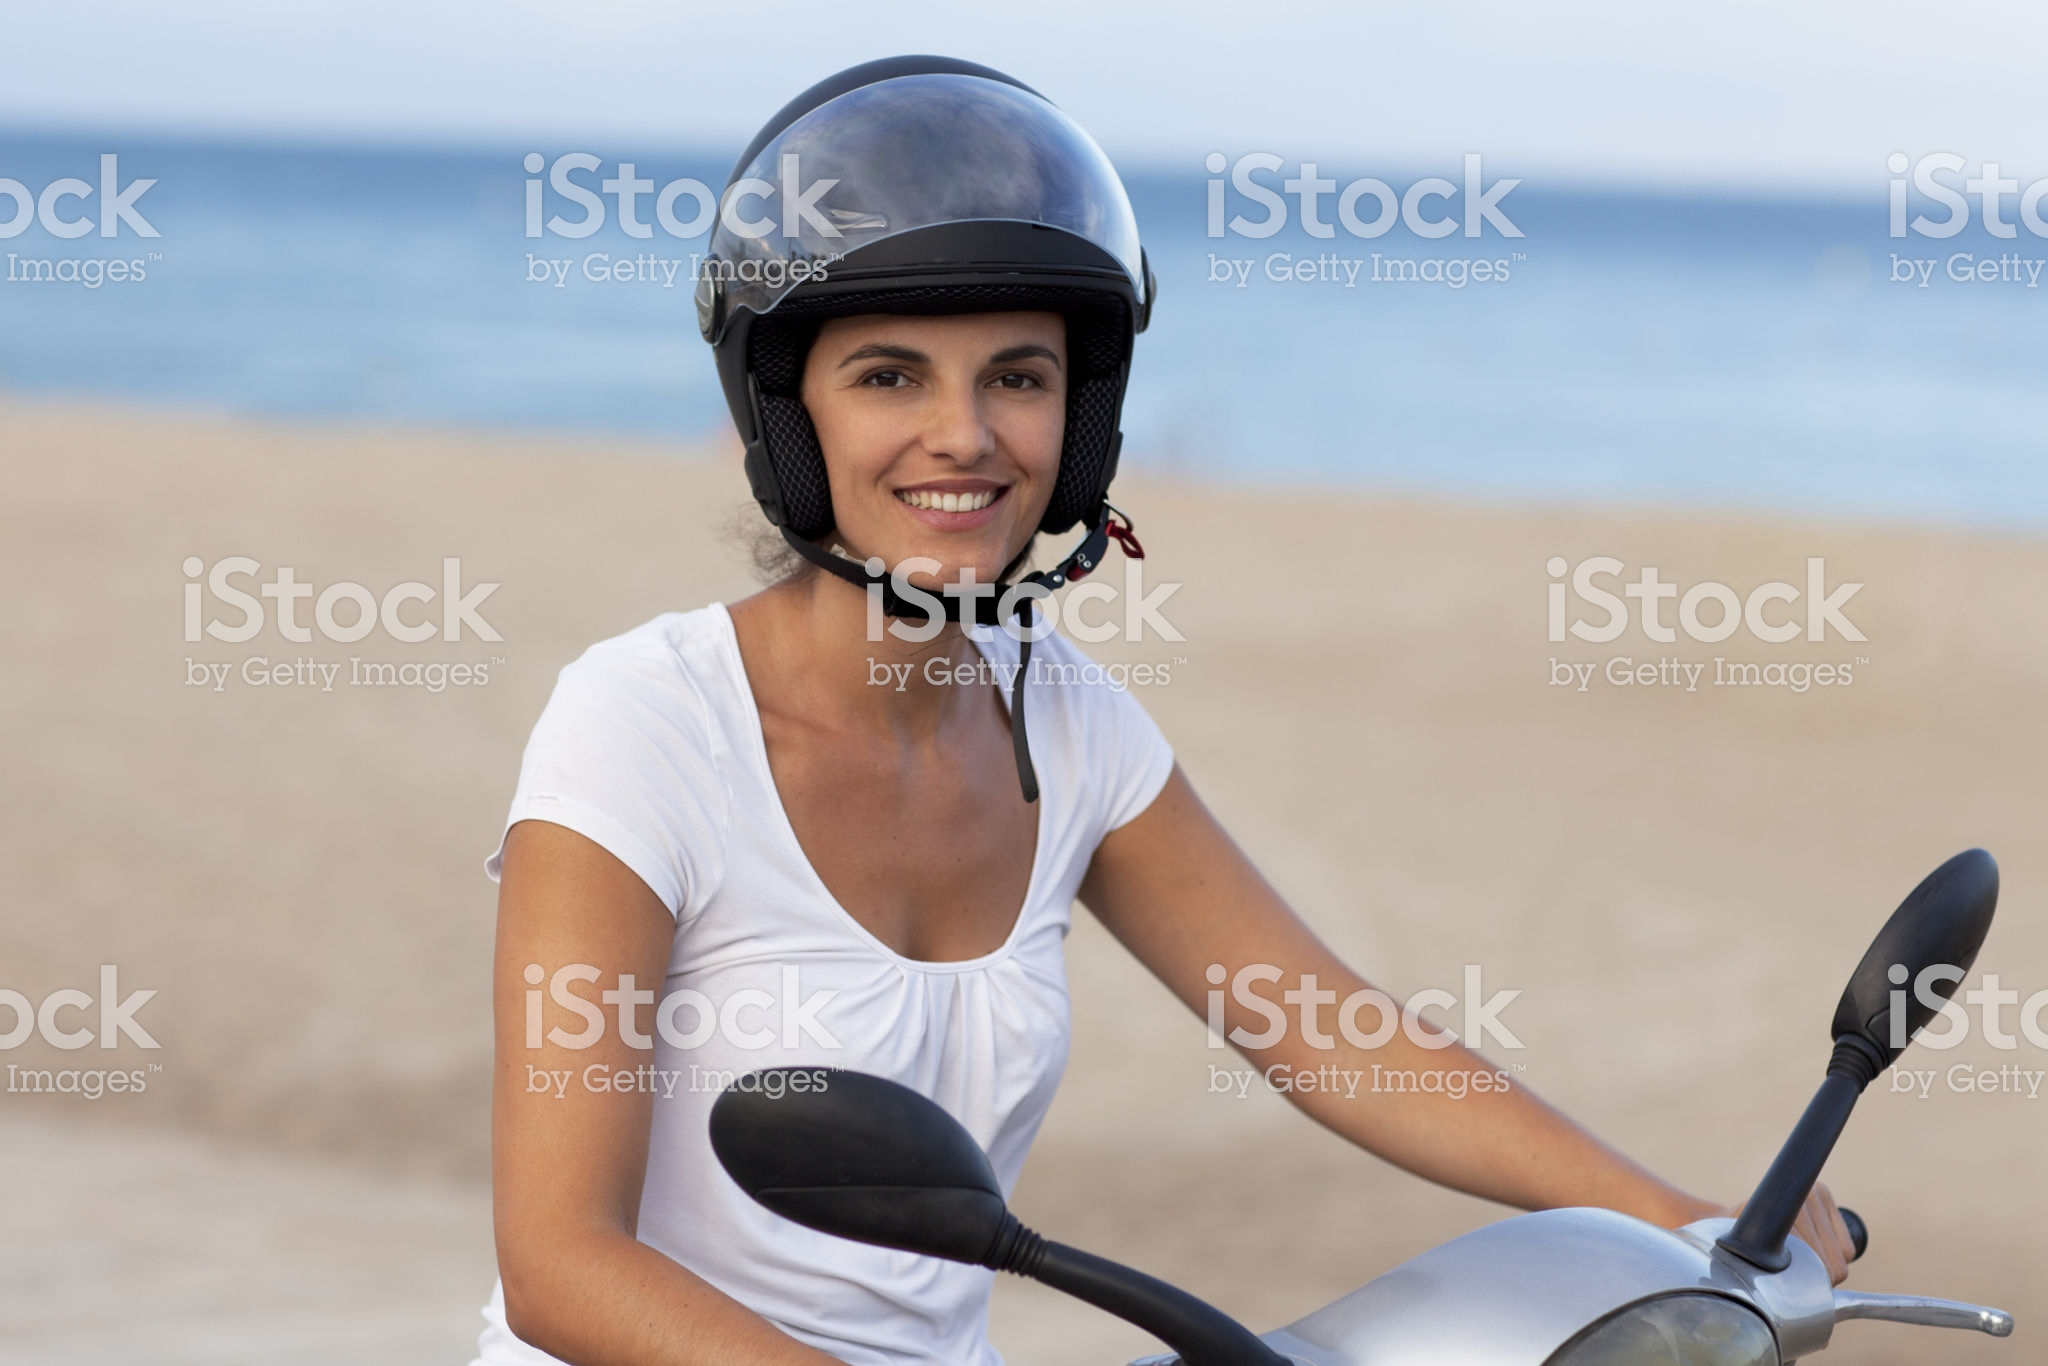helmet: (721, 58, 1157, 582)
